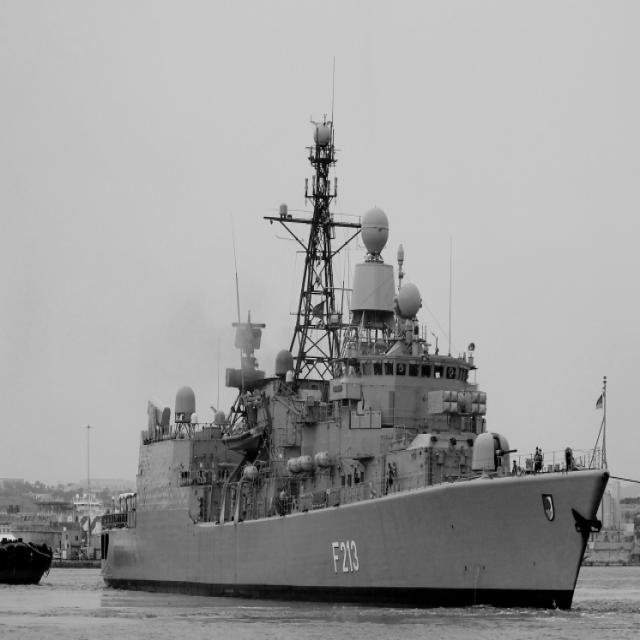Fragata: (94, 87, 618, 624)
